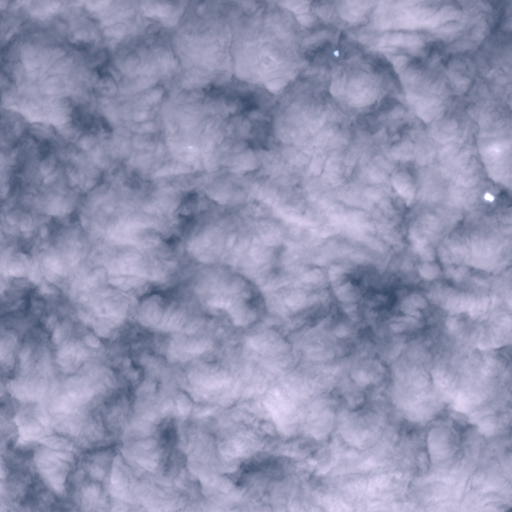Iceberg: (484, 193, 493, 201), (333, 50, 338, 56)
